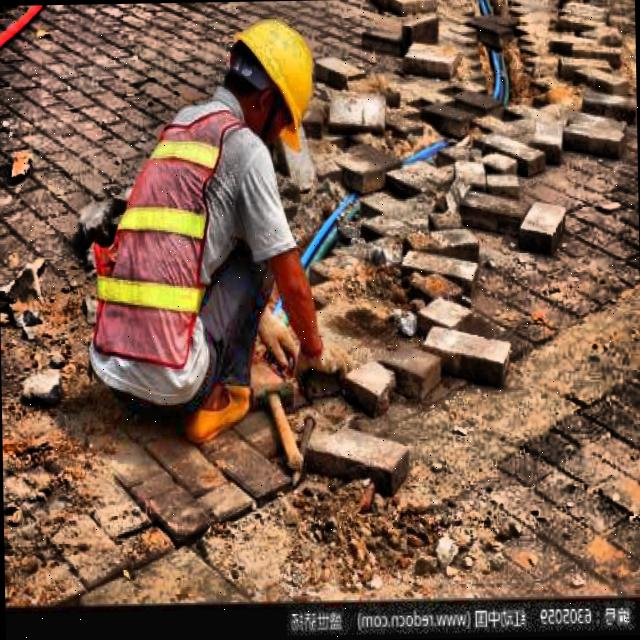helmet: (208, 7, 324, 155)
